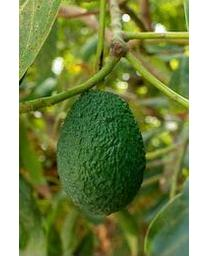avocado: (54, 89, 147, 217)
